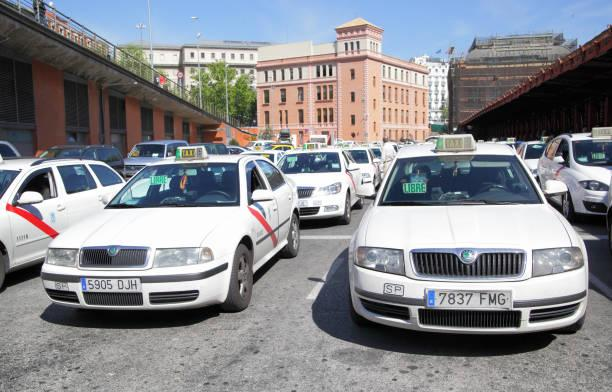skoda: (458, 243, 479, 265), (103, 243, 120, 259)
